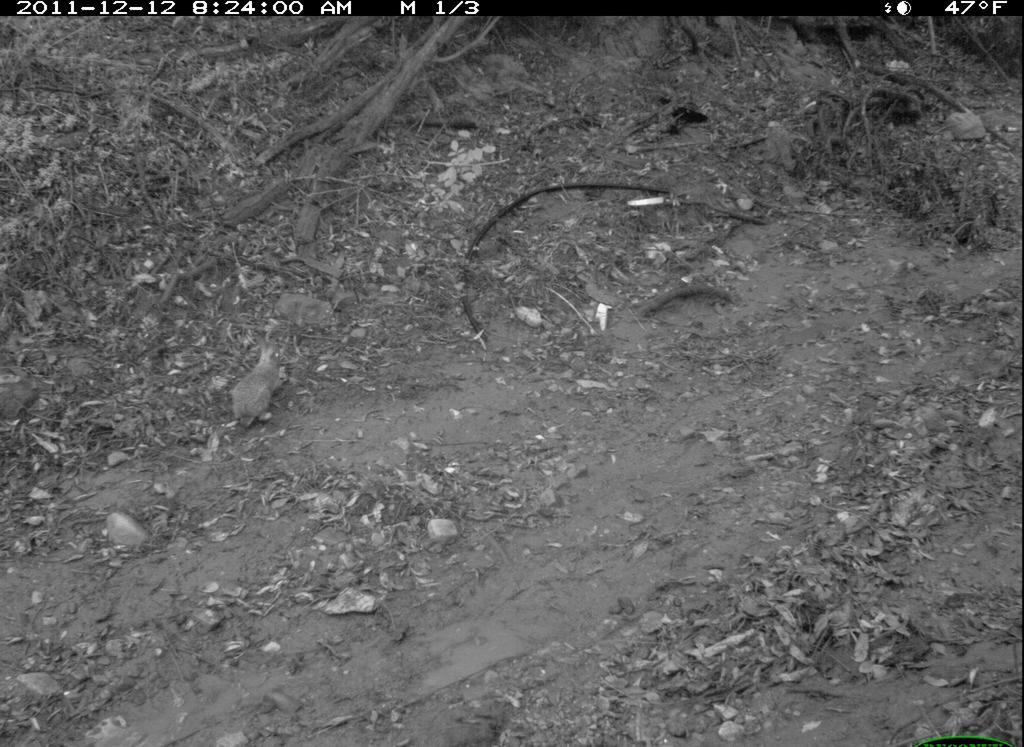rabbit: (225, 326, 299, 433)
